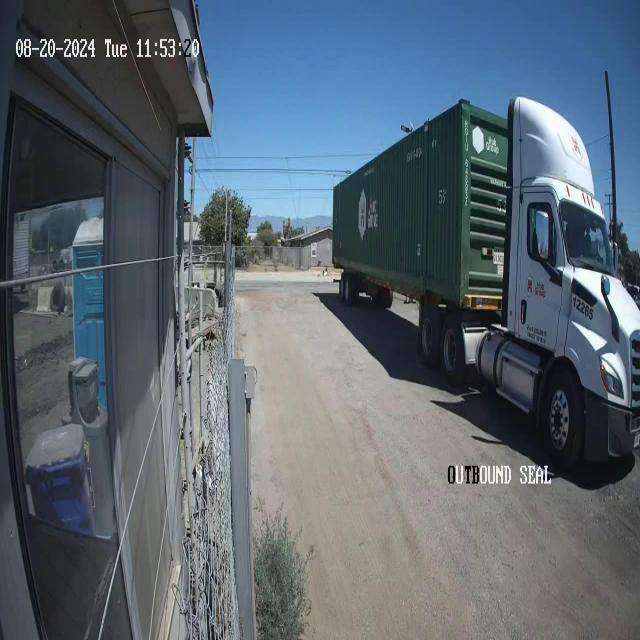TRUCK_CONTAINER: (331, 93, 639, 471)
